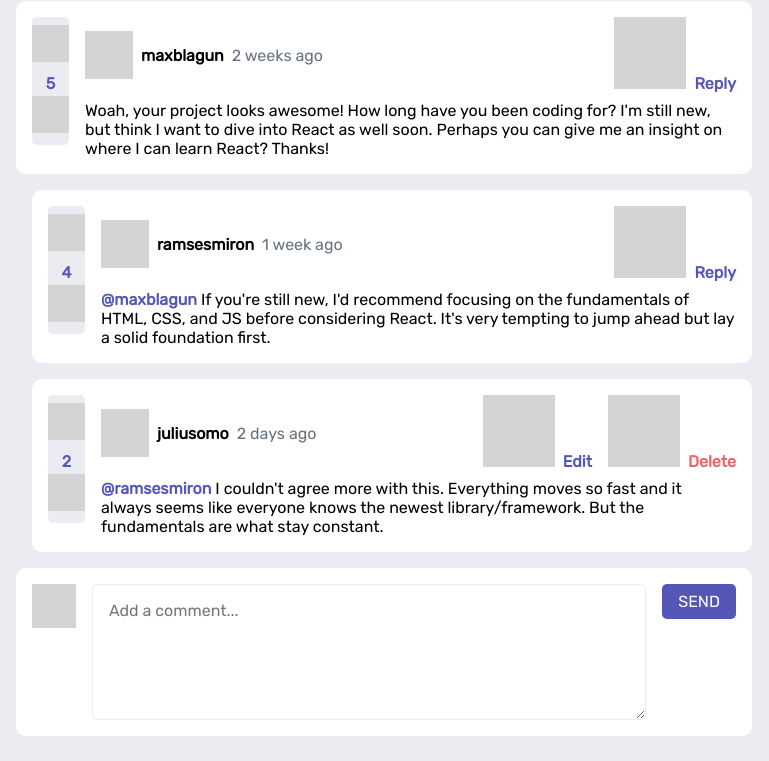
Test: App Integration Tests › Creating Comments › should display score of 0 on new comment
The image size is (769, 761).
(page scrolled)
Type "Zero score comment" into the text box with placeholder "Add a comment...".
click(369, 652); type("Zero score comment")  # box [92,584,646,720]
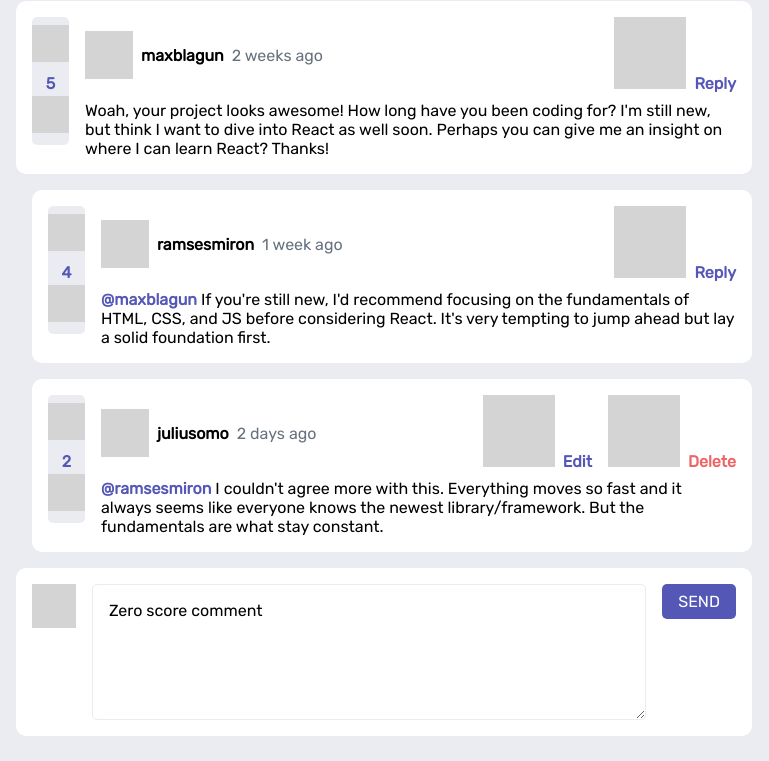
Click the button "send".
click(699, 602)  # box [662,584,736,619]
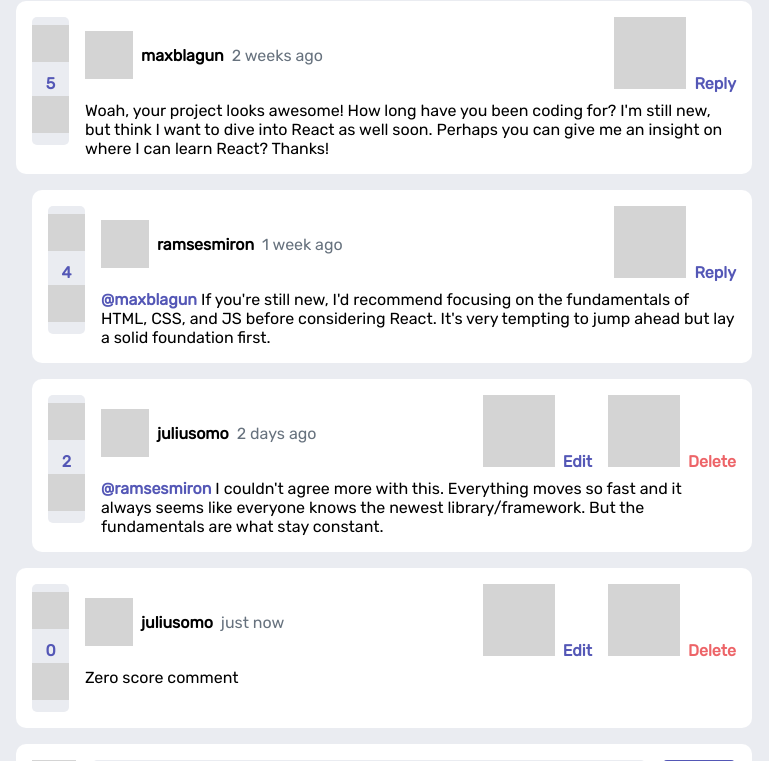
Now the text "0" is shown, box [45,641,56,660]
